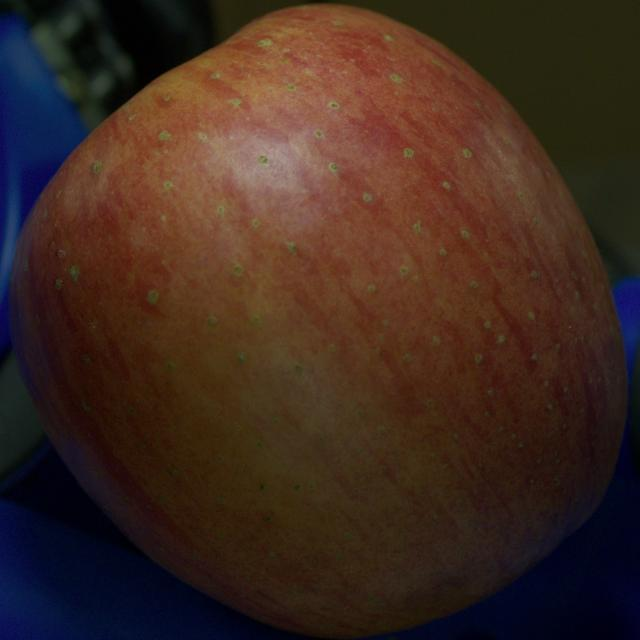apple: (11, 5, 626, 638)
